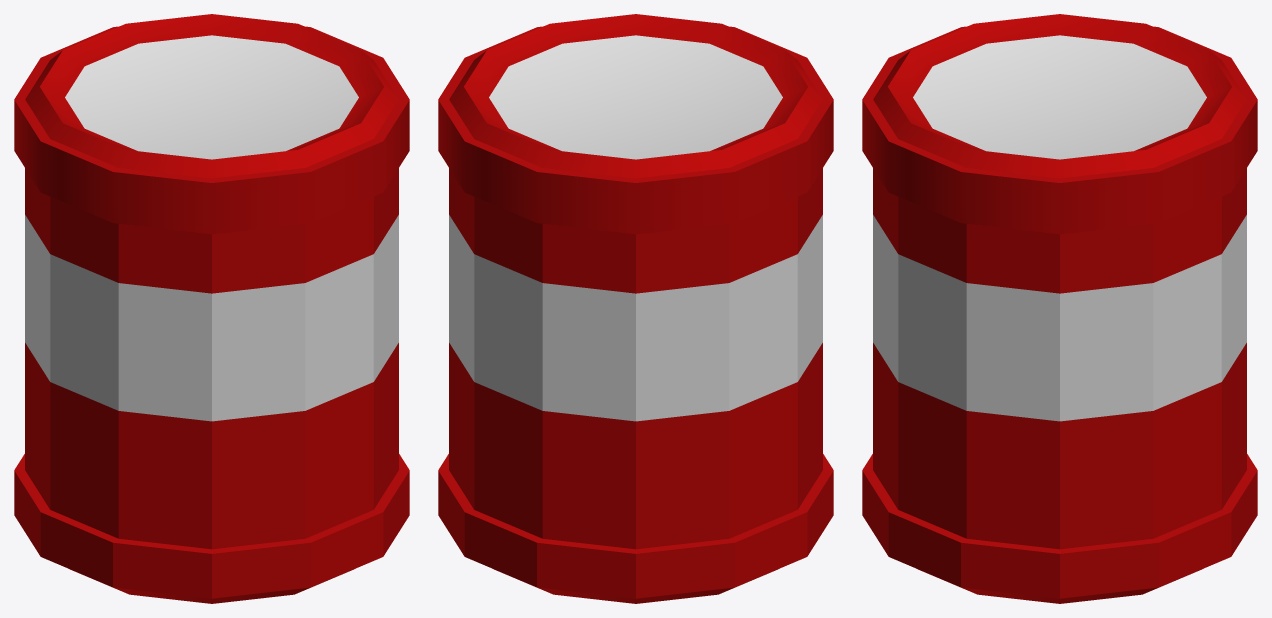
File: ExplosiveBarrel.fbx
3 renders of one model, left to right at view 1: azimuth 30°, elevation 25°; view 2: azimuth 150°, elevation 25°; view 3: azimuth 270°, elevation 25°, orthographic.
Parts seen in each view (by area): view 1: Barrel; view 2: Barrel; view 3: Barrel.
Part boxes in pixels (<box>): Barrel: <box>14,14,409,603</box>; Barrel: <box>438,14,833,603</box>; Barrel: <box>862,14,1257,603</box>.
Size of the model in its own units: 63.52 by 79.28 by 63.52.
